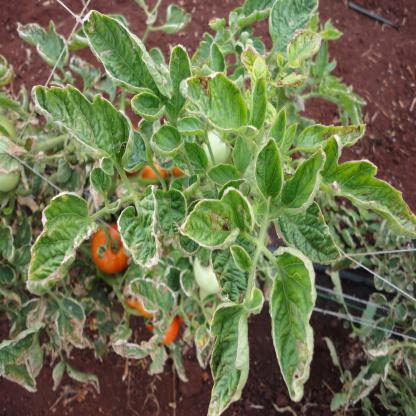tomato leaf yellow virus: (77, 9, 193, 132), (318, 126, 411, 245), (192, 292, 269, 416), (21, 82, 140, 158), (21, 188, 96, 304), (177, 63, 275, 150), (268, 243, 321, 398), (177, 170, 255, 249), (112, 184, 163, 299), (282, 145, 339, 211), (251, 134, 296, 201)
